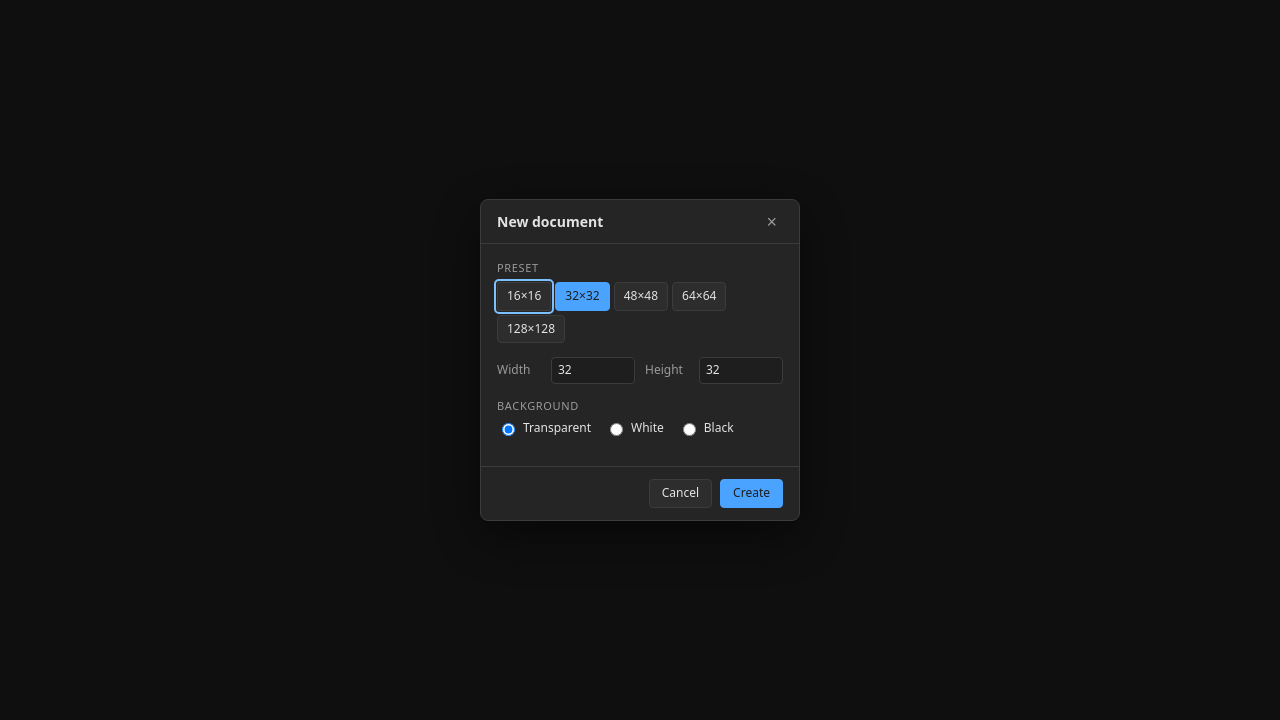
it: NewDocumentDialog › disables Create for an out-of-range size
Replace the text in the number field labelled "Width" with "99999" at [593, 371], box top-left (551, 357), bottom-right (635, 384)
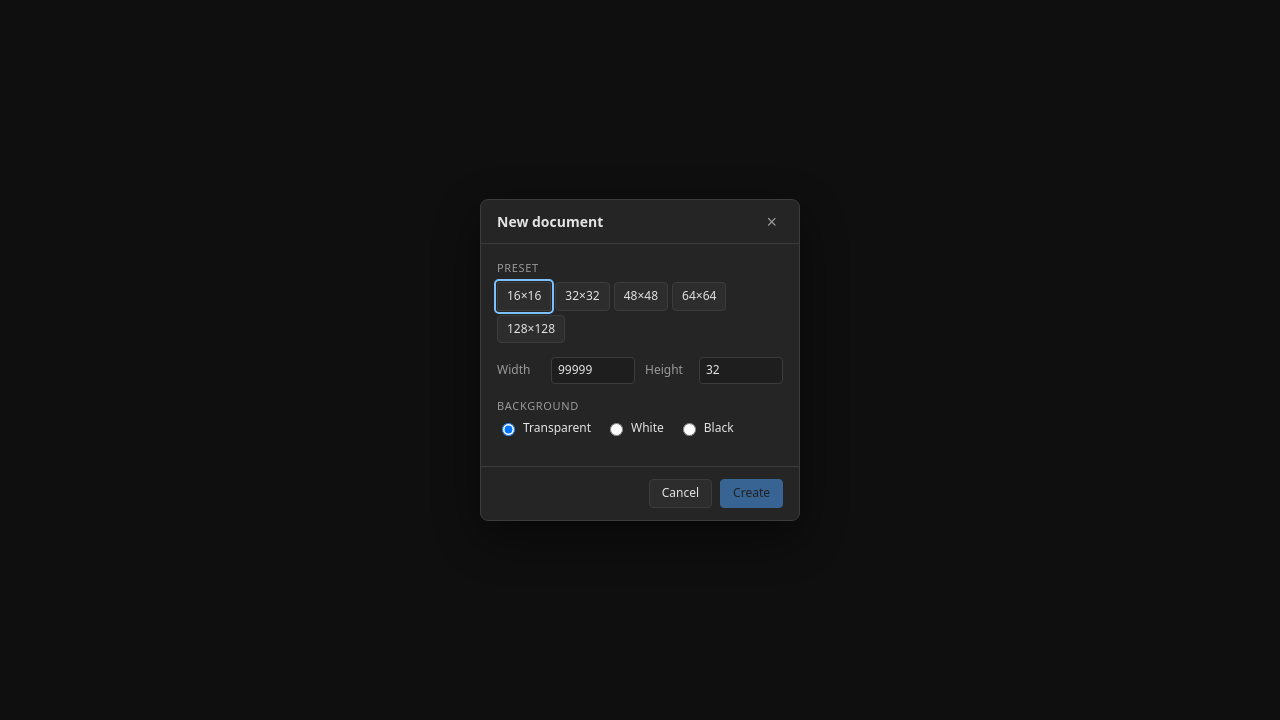
Expected: the button "Create" is disabled, top-left (720, 479), bottom-right (783, 508)
